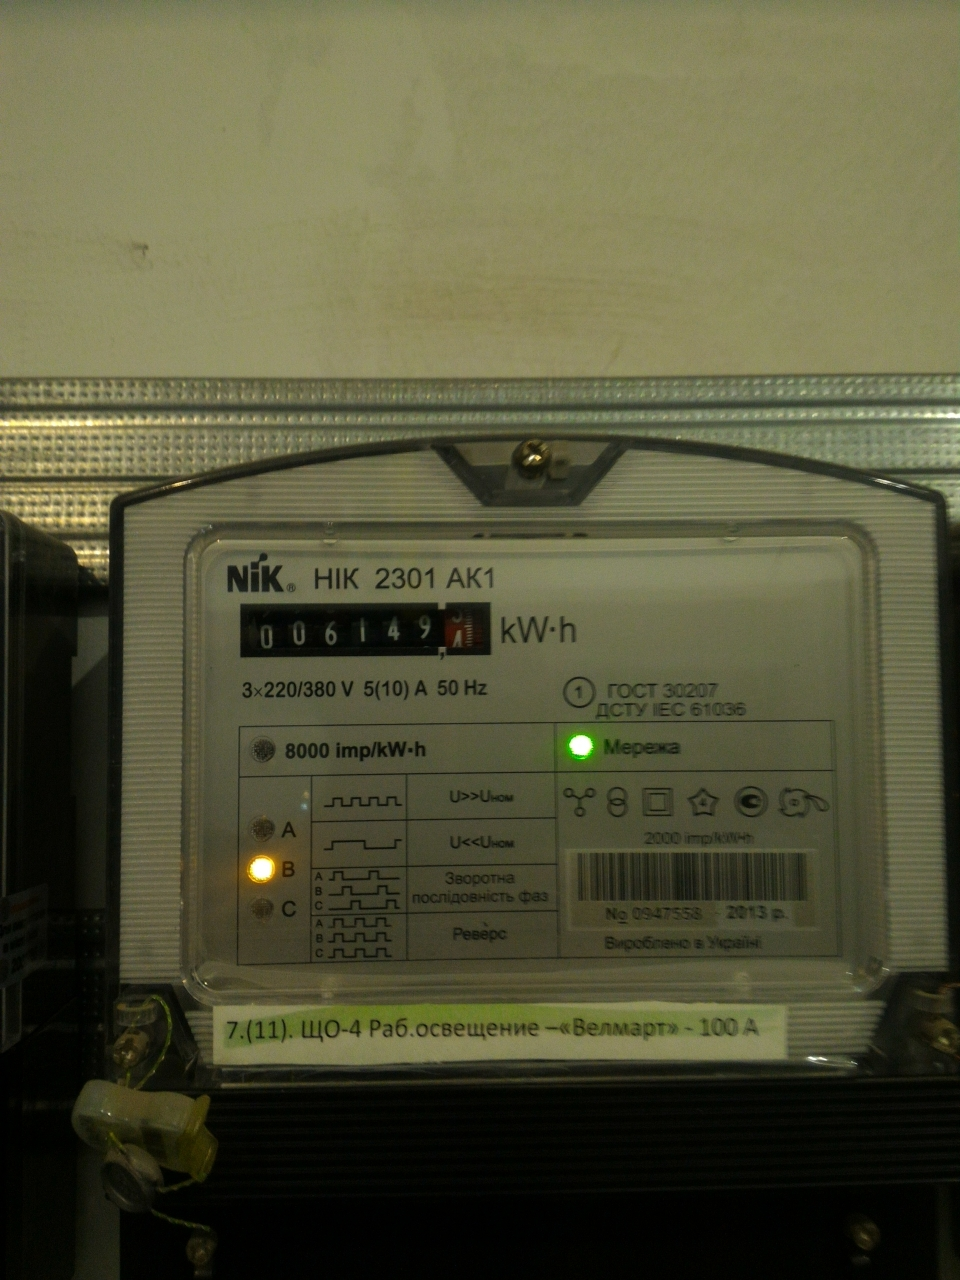0: (257, 622, 276, 651), (289, 618, 308, 647)
1: (353, 613, 370, 646)
4: (384, 613, 401, 644), (450, 629, 464, 649)
6: (322, 617, 339, 646)
9: (413, 612, 433, 641)
screen: (232, 594, 504, 665)
x: (449, 605, 465, 625)
